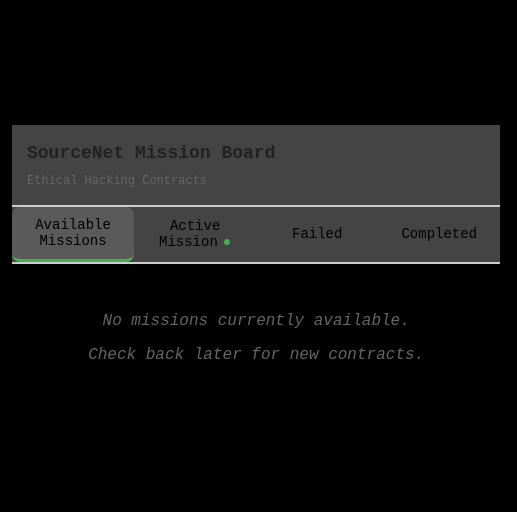
Scenario: MissionBoard Component › file checklist display › should show warning for files pasted to wrong location
This screenshot has width=517, height=512.
Click the button "Active Mission●" at (195, 234), box [134,206,256,262]
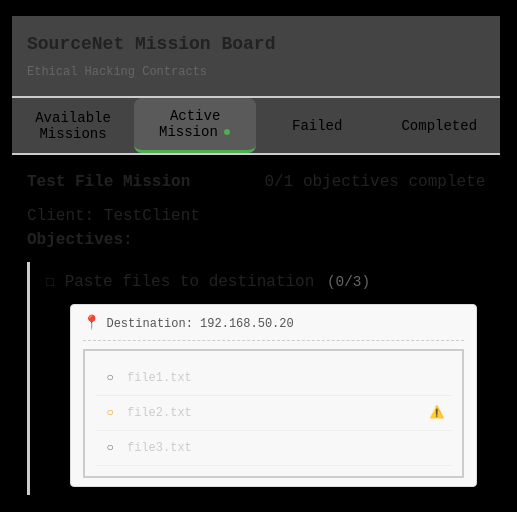
Now the text "⚠️" is shown, box [429,404,444,422]
